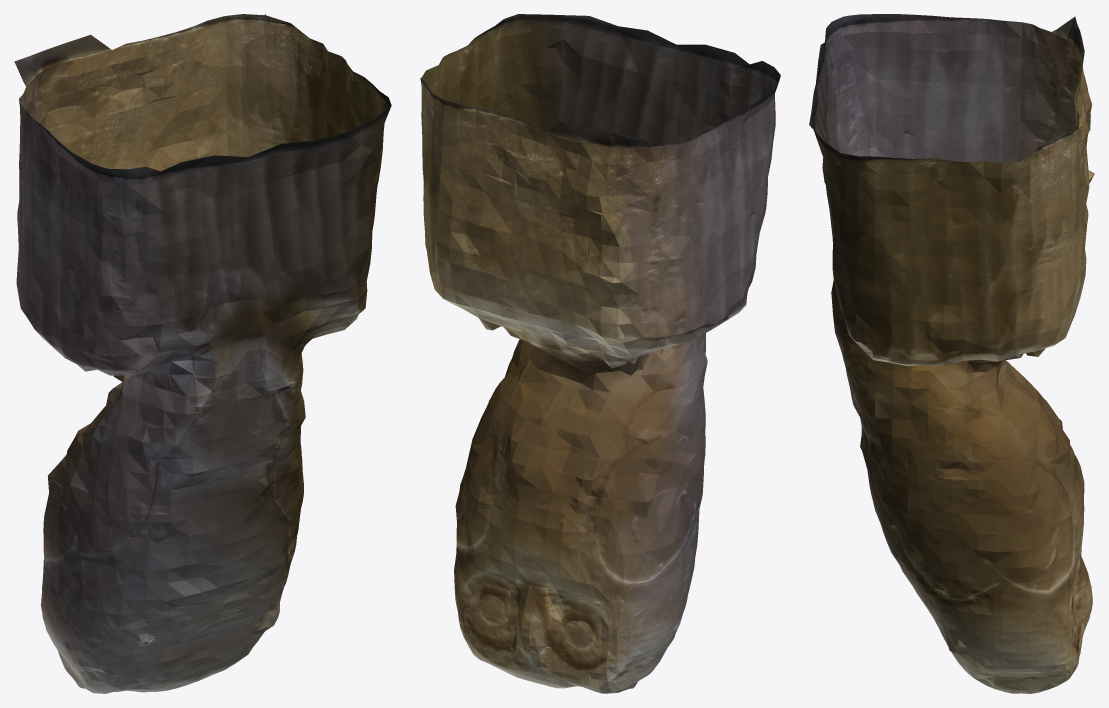
File: uil compleet.obj
3 renders of one model, left to right at view 1: azimuth 30°, elevation 25°; view 2: azimuth 150°, elevation 25°; view 3: azimuth 270°, elevation 25°, orthographic. The views are drawn at different scales.
Bounding box in the file's own units: 2.06 × 4.05 × 1.73.
Materials: 1 (1 with a texture image).
